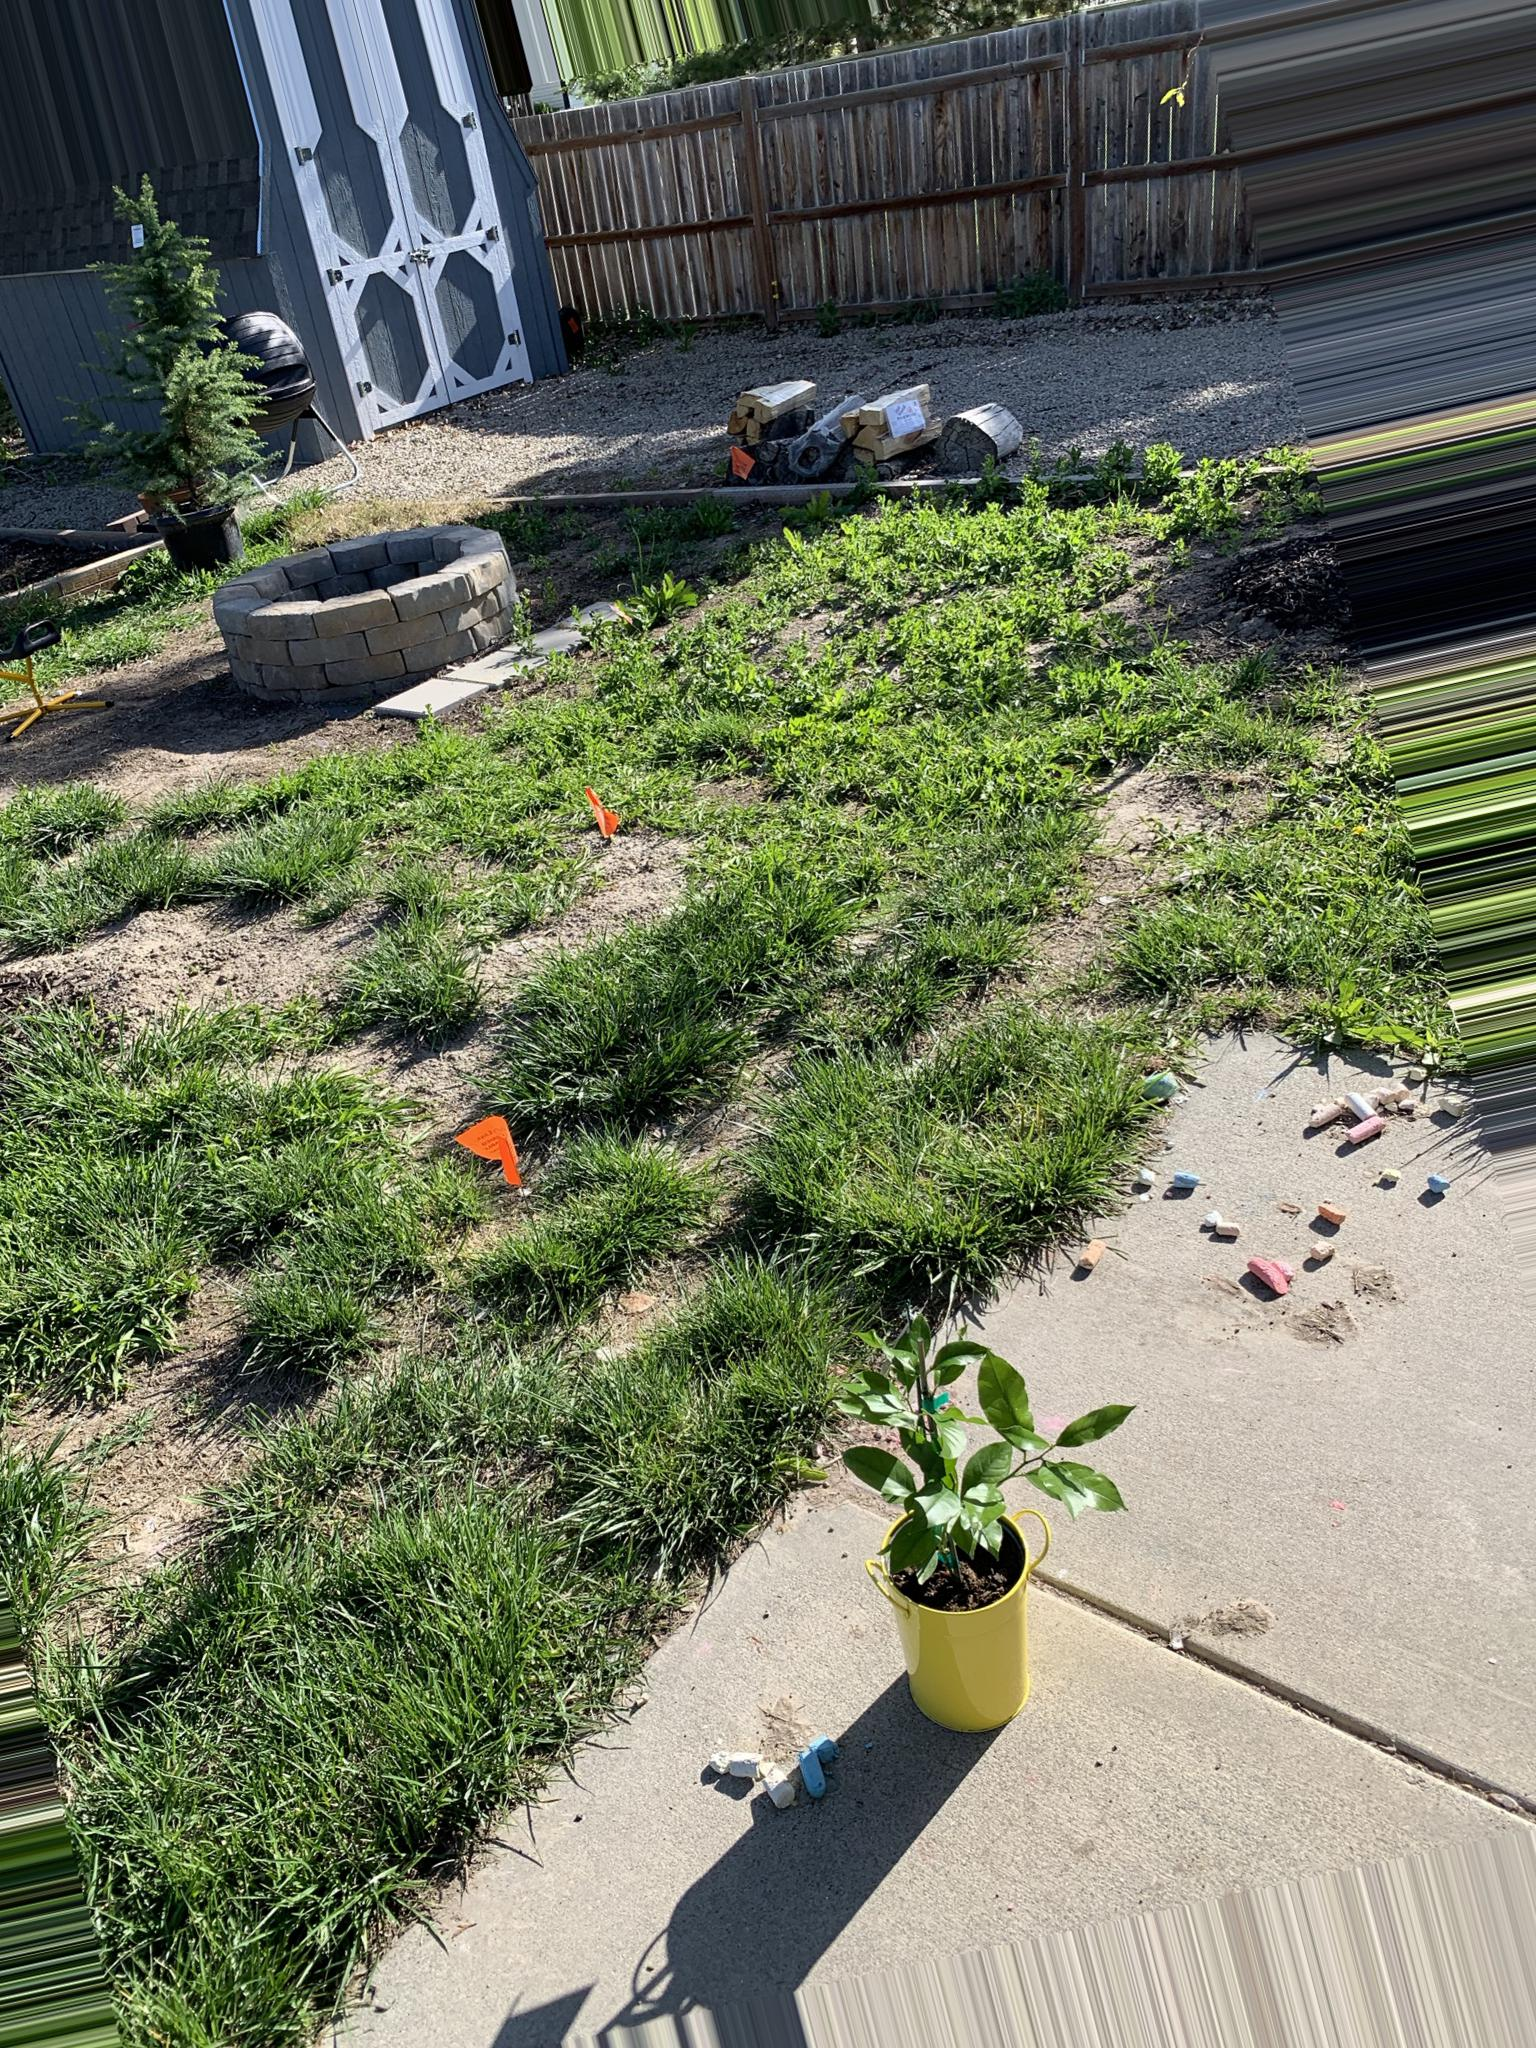patch: (44, 1419, 247, 1551), (115, 906, 281, 1013), (560, 840, 666, 955), (1117, 772, 1205, 839), (613, 1274, 668, 1330)
